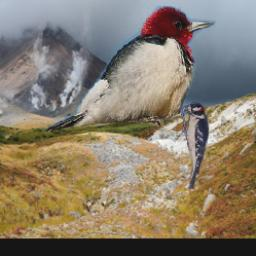Woodpecker: (43, 7, 215, 132), (180, 101, 210, 190)
